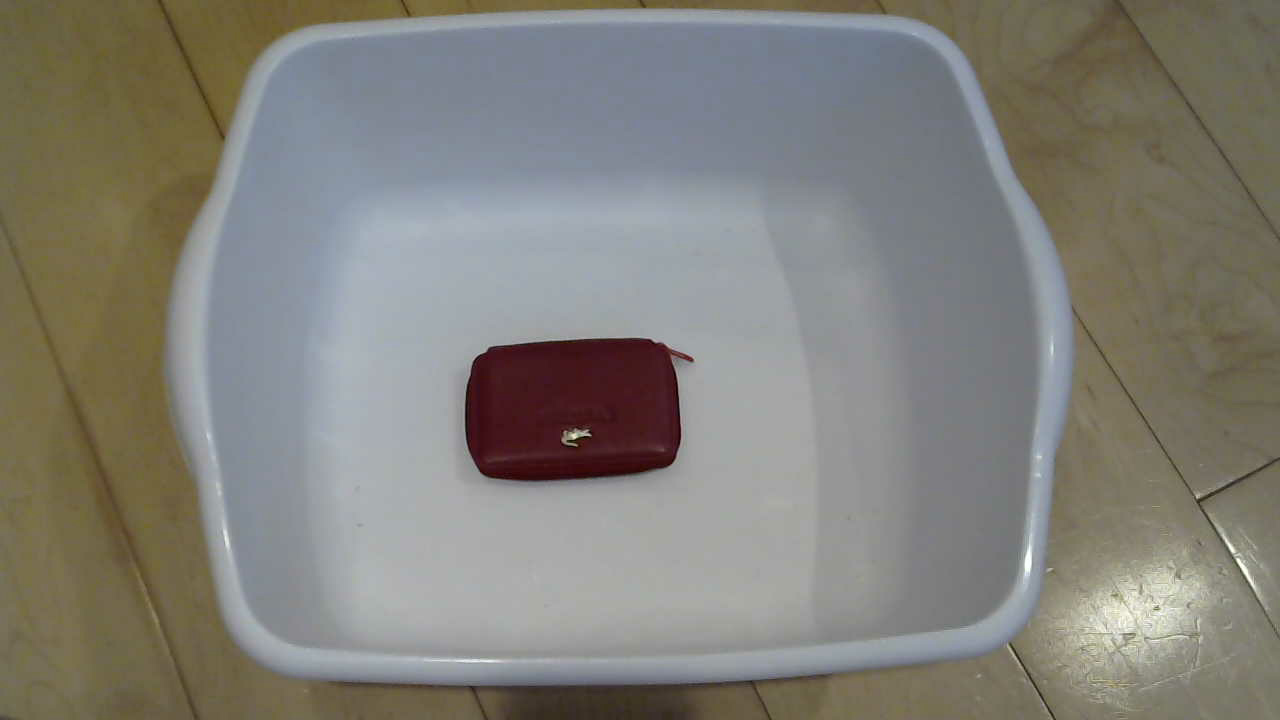wallet: (461, 339, 701, 494)
